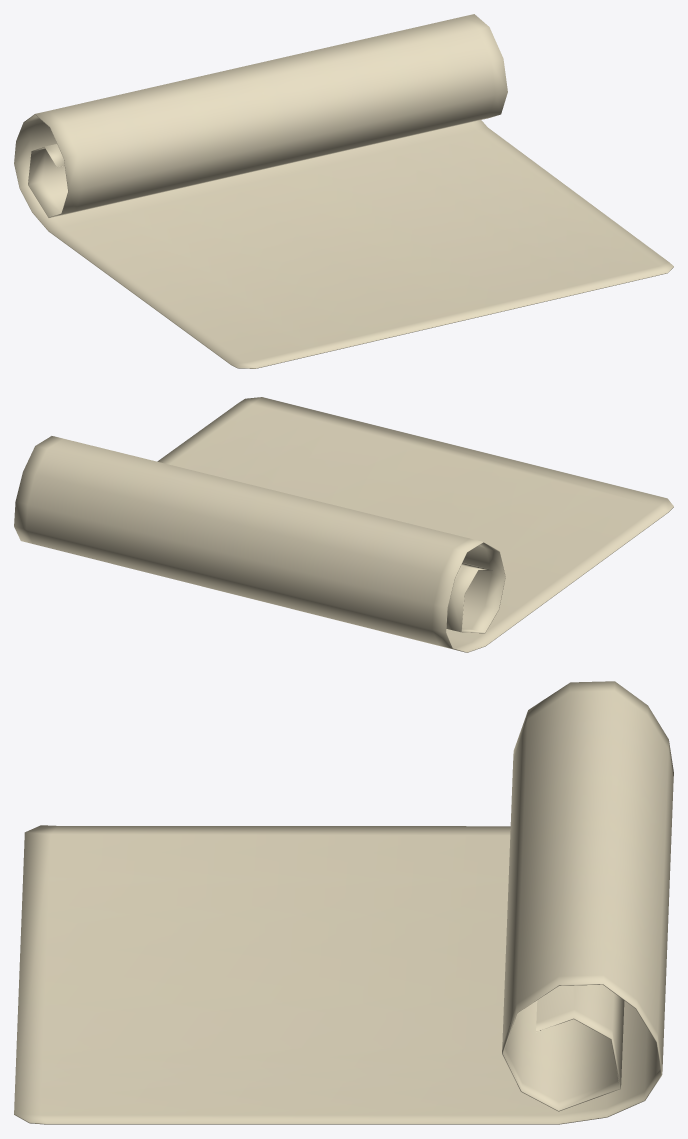
Rendered from paper_01.glb.
3 renders of one model, top to bottom at view 1: azimuth 30°, elevation 25°; view 2: azimuth 150°, elevation 25°; view 3: azimuth 270°, elevation 25°, orthographic. The views are drawn at different scales.
Visible parts, largest first — view 1: paper.01; view 2: paper.01; view 3: paper.01.
Part boxes in pixels (x1,y1,x2,y2): paper.01: (14, 14, 673, 368); paper.01: (14, 397, 673, 652); paper.01: (14, 681, 673, 1124).
Size of the model in its own units: 0.6421 by 0.1479 by 0.597.
1 material, 1 textured.
